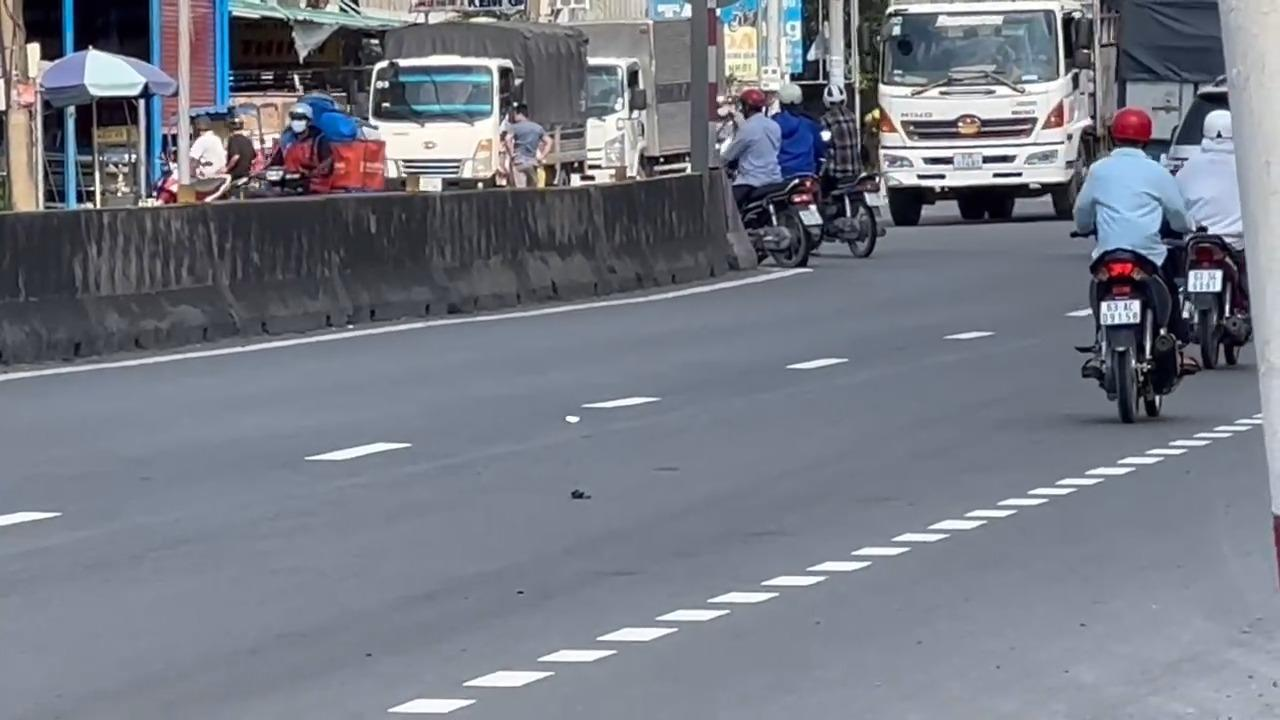bien_so: (1098, 298, 1141, 325), (1185, 268, 1223, 293), (952, 152, 984, 170)
